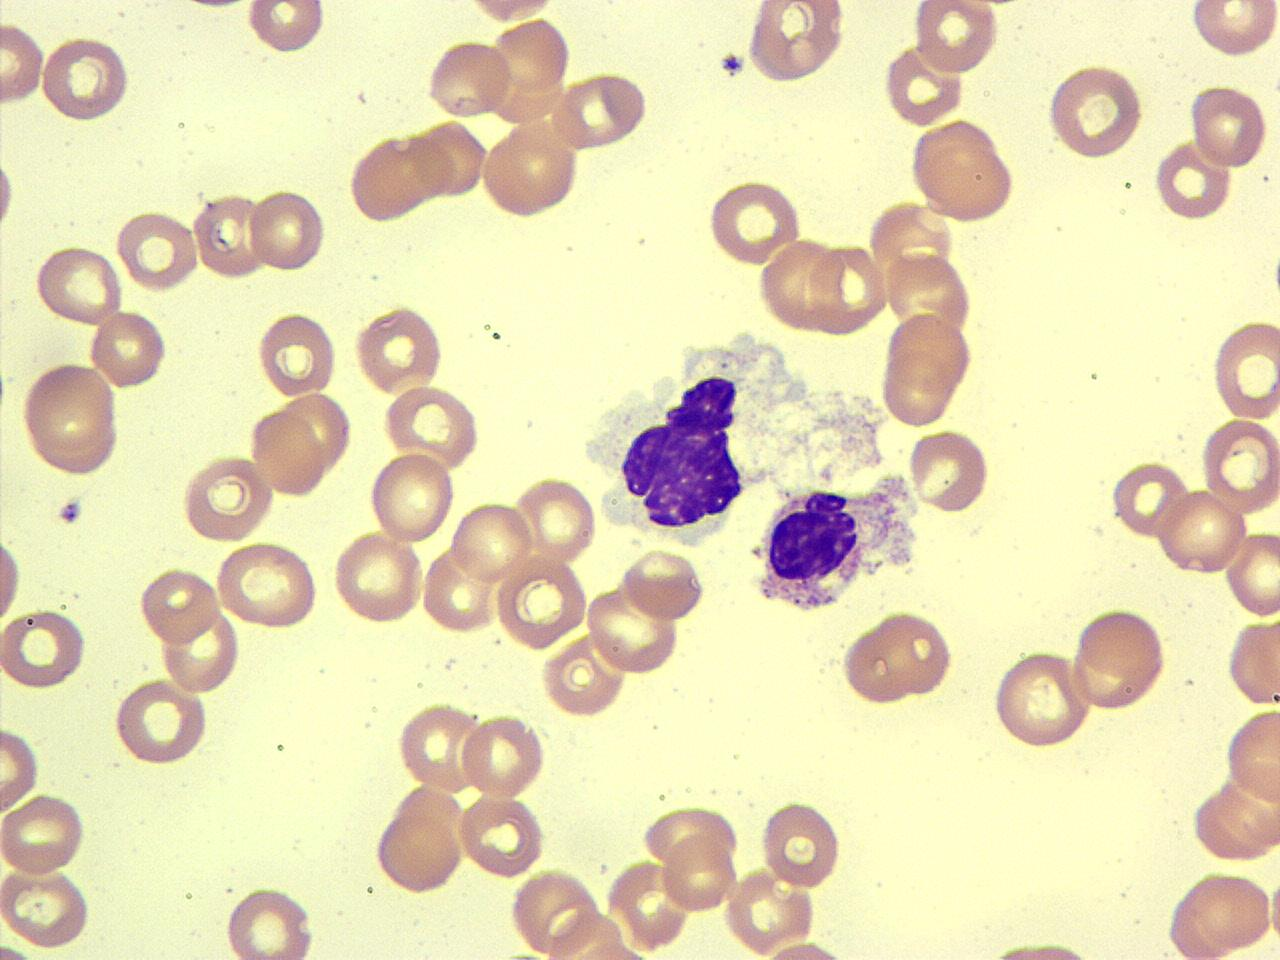Platelets: (1266, 244, 1280, 316), (56, 496, 85, 526), (719, 49, 748, 79)
RBC: (850, 0, 1278, 341), (18, 360, 122, 480), (906, 116, 1020, 224), (835, 608, 958, 708), (1069, 604, 1171, 714), (758, 236, 864, 339), (1162, 866, 1276, 960), (478, 118, 582, 221), (990, 648, 1093, 752), (1043, 60, 1145, 162), (211, 540, 320, 630), (702, 176, 808, 268), (371, 796, 466, 897), (492, 555, 591, 651), (331, 528, 426, 628), (488, 12, 574, 122), (583, 582, 682, 676), (112, 676, 212, 768), (178, 451, 276, 543), (550, 66, 652, 154), (722, 862, 818, 955), (880, 311, 976, 404), (366, 450, 457, 548), (381, 382, 482, 470), (882, 246, 976, 340), (352, 302, 446, 396), (38, 32, 132, 126), (346, 129, 439, 223), (756, 795, 846, 892), (744, 2, 849, 85), (0, 862, 96, 952), (395, 700, 486, 792), (803, 238, 888, 336), (1199, 416, 1279, 518), (456, 790, 546, 880), (509, 868, 601, 956), (1157, 489, 1249, 577), (460, 710, 547, 802), (222, 879, 320, 960), (537, 632, 629, 718), (906, 424, 992, 516), (513, 474, 598, 566), (0, 790, 88, 878), (254, 308, 338, 400), (114, 206, 201, 294), (424, 36, 514, 121), (33, 242, 121, 328), (1187, 80, 1269, 172), (0, 607, 89, 691), (880, 42, 966, 128), (247, 185, 328, 276), (1210, 317, 1280, 422), (248, 405, 326, 499), (192, 191, 271, 283), (1152, 136, 1236, 222), (450, 498, 532, 586), (136, 564, 223, 644), (88, 306, 169, 391), (911, 1, 1002, 76), (413, 115, 490, 203), (1110, 457, 1190, 541), (639, 802, 740, 868), (880, 348, 962, 429), (620, 546, 706, 622), (282, 388, 355, 473), (658, 834, 738, 911), (1222, 704, 1280, 806), (1186, 1, 1278, 60), (1224, 616, 1280, 706), (1224, 530, 1280, 619), (242, 0, 328, 57), (0, 20, 47, 112), (0, 722, 43, 820), (983, 937, 1111, 960), (0, 522, 24, 634), (748, 938, 866, 960), (0, 131, 18, 246)
WBC: (566, 306, 994, 654), (581, 336, 764, 547), (748, 468, 919, 617)
